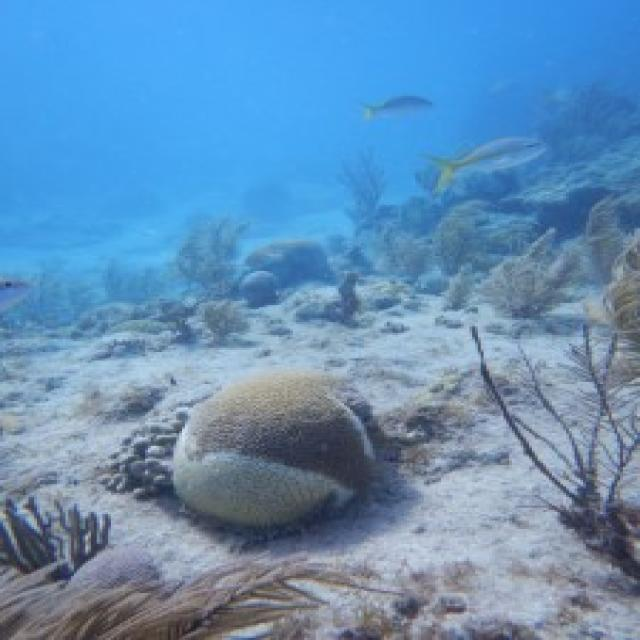Bleached: (175, 453, 351, 524), (101, 406, 192, 498)
Healthy: (473, 325, 638, 579), (1, 547, 396, 639), (180, 370, 371, 490), (436, 202, 524, 308), (1, 498, 109, 575), (482, 229, 576, 317), (177, 219, 246, 298)
